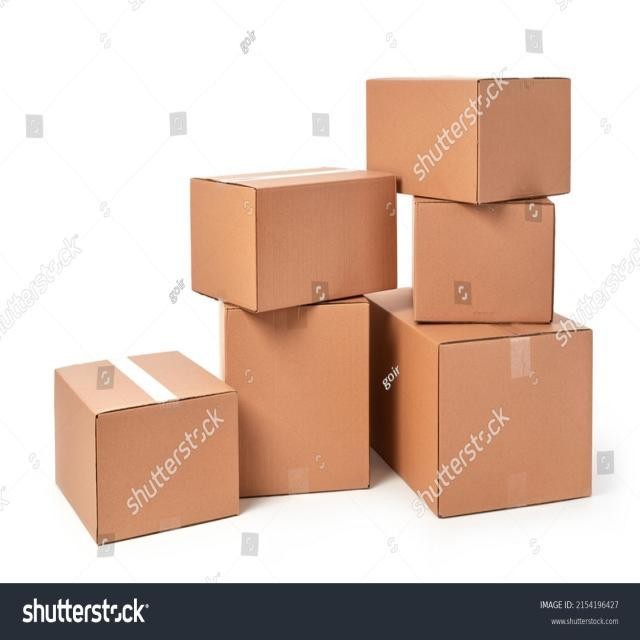BoxFace: (438, 329, 592, 518), (226, 303, 370, 499), (96, 389, 239, 549), (256, 175, 396, 315), (413, 201, 556, 323), (478, 80, 572, 206)
